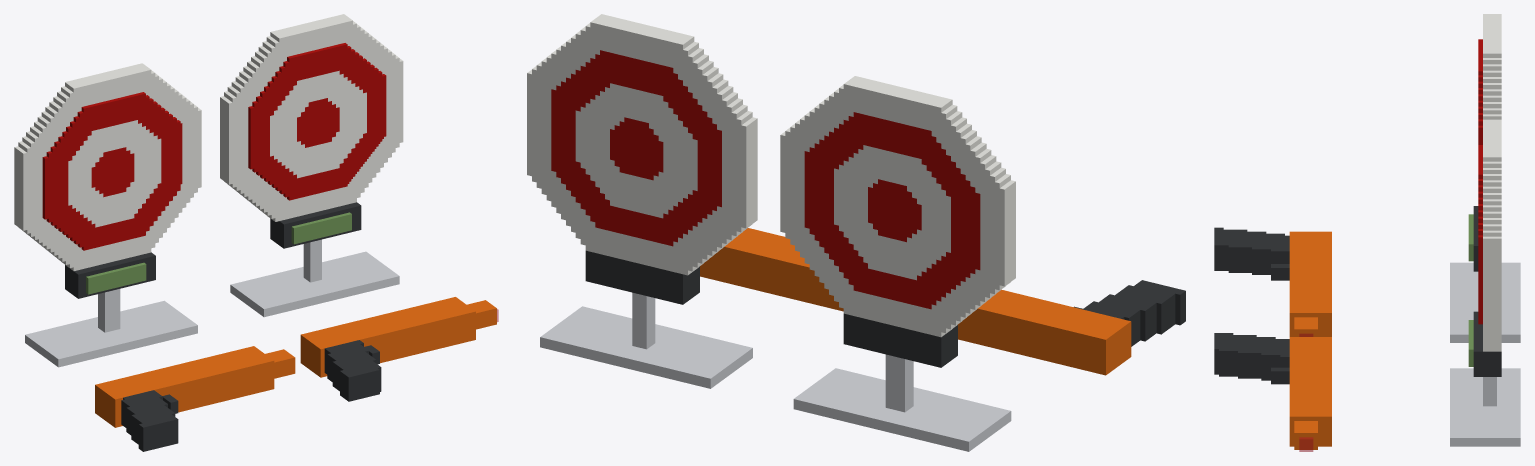
File: aim_game.glb
The picture shows the model from 3 angles, left to right: view 1: azimuth 30°, elevation 25°; view 2: azimuth 150°, elevation 25°; view 3: azimuth 270°, elevation 25°; orthographic projection. The views are drawn at different scales.
Parts seen in each view (by area): view 1: aim_game:compound; view 2: aim_game:compound; view 3: aim_game:compound.
Boxes of the visible parts, left/top/right/bottom form: aim_game:compound: left=14, top=14, right=498, bottom=451; aim_game:compound: left=527, top=14, right=1185, bottom=451; aim_game:compound: left=1214, top=14, right=1520, bottom=451.
Size of the model in its own units: 0.408 by 0.256 by 0.26.
